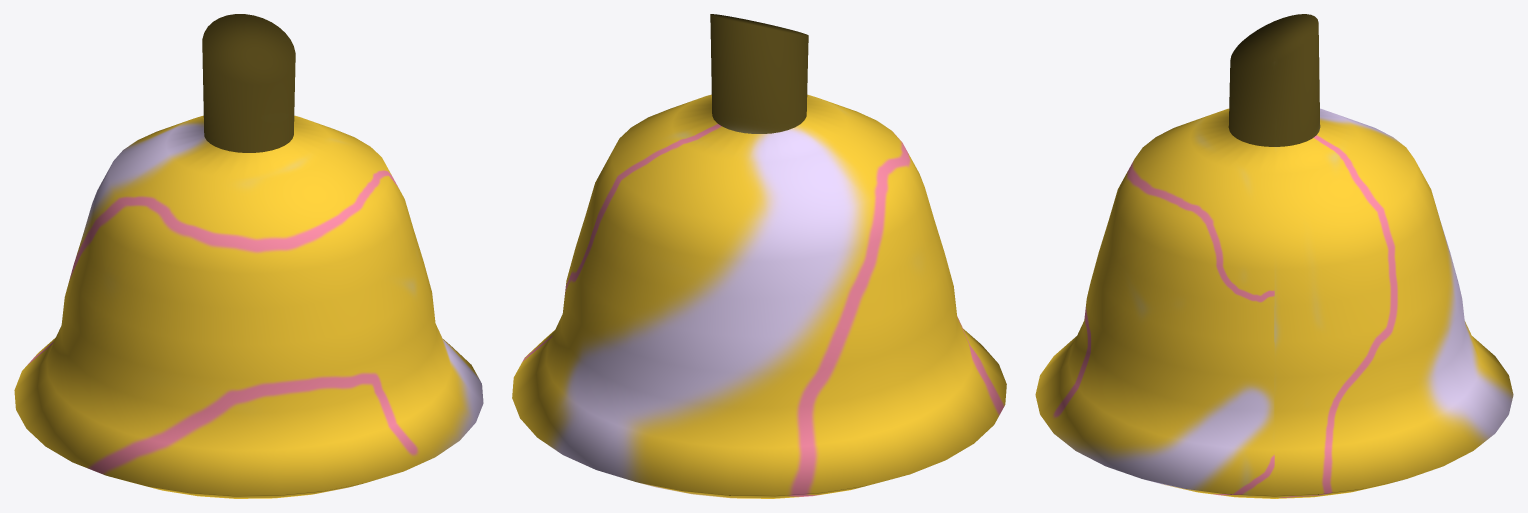
The model's file is Everbell_Pickup.glb.
3 renders of one model, left to right at view 1: azimuth 30°, elevation 25°; view 2: azimuth 150°, elevation 25°; view 3: azimuth 270°, elevation 25°, orthographic. The views are drawn at different scales.
Visible parts, largest first — view 1: Cylinder; view 2: Cylinder; view 3: Cylinder.
Boxes of the visible parts, box(x1,y1,x2,y2) form: Cylinder: box(14, 14, 483, 498); Cylinder: box(512, 14, 1006, 498); Cylinder: box(1035, 14, 1513, 498).
Bounding box in the file's own units: 1.71 × 1.54 × 1.71.
Materials: 1 (1 with a texture image).
